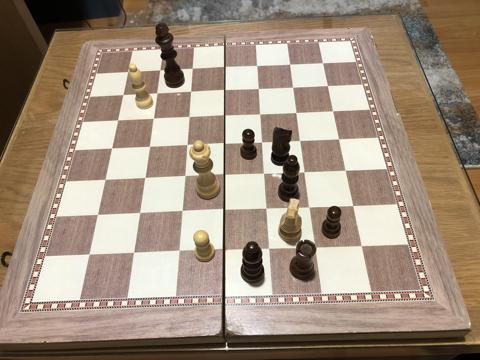xcorner: (255, 108, 268, 121), (147, 113, 160, 126), (143, 141, 156, 154), (127, 247, 140, 260), (286, 58, 298, 71), (252, 60, 265, 72), (155, 65, 167, 78), (289, 81, 301, 94), (219, 85, 232, 97), (300, 166, 312, 179), (178, 171, 191, 183), (133, 208, 146, 220), (357, 240, 369, 253), (172, 246, 185, 258), (319, 57, 331, 69), (220, 62, 232, 74), (187, 64, 199, 76), (123, 67, 135, 79), (324, 80, 336, 92), (254, 83, 266, 95), (185, 87, 197, 99), (151, 88, 163, 100), (118, 90, 130, 102), (329, 105, 341, 117), (292, 107, 304, 119), (219, 110, 231, 122), (183, 112, 195, 124), (112, 115, 124, 127), (335, 133, 347, 145), (296, 135, 308, 147), (257, 137, 269, 149), (219, 138, 231, 150), (181, 140, 193, 152), (106, 143, 118, 155), (341, 165, 353, 177), (259, 168, 271, 180), (219, 170, 231, 182), (139, 173, 151, 185), (99, 174, 111, 186), (349, 200, 361, 212), (305, 202, 317, 214), (261, 203, 273, 215), (218, 205, 230, 217), (176, 206, 188, 218), (92, 209, 104, 221), (310, 242, 322, 254), (264, 243, 276, 255), (218, 245, 230, 257), (83, 249, 95, 261)
